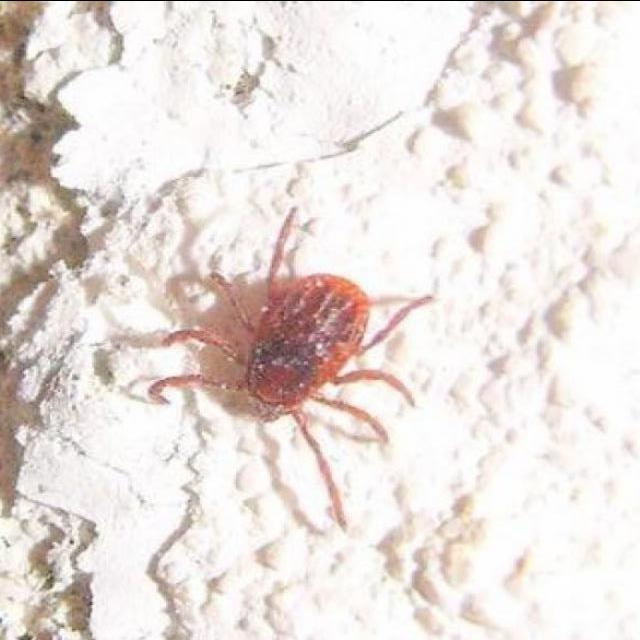Rhipicephalus Sanguineus-F: (128, 211, 442, 531)
